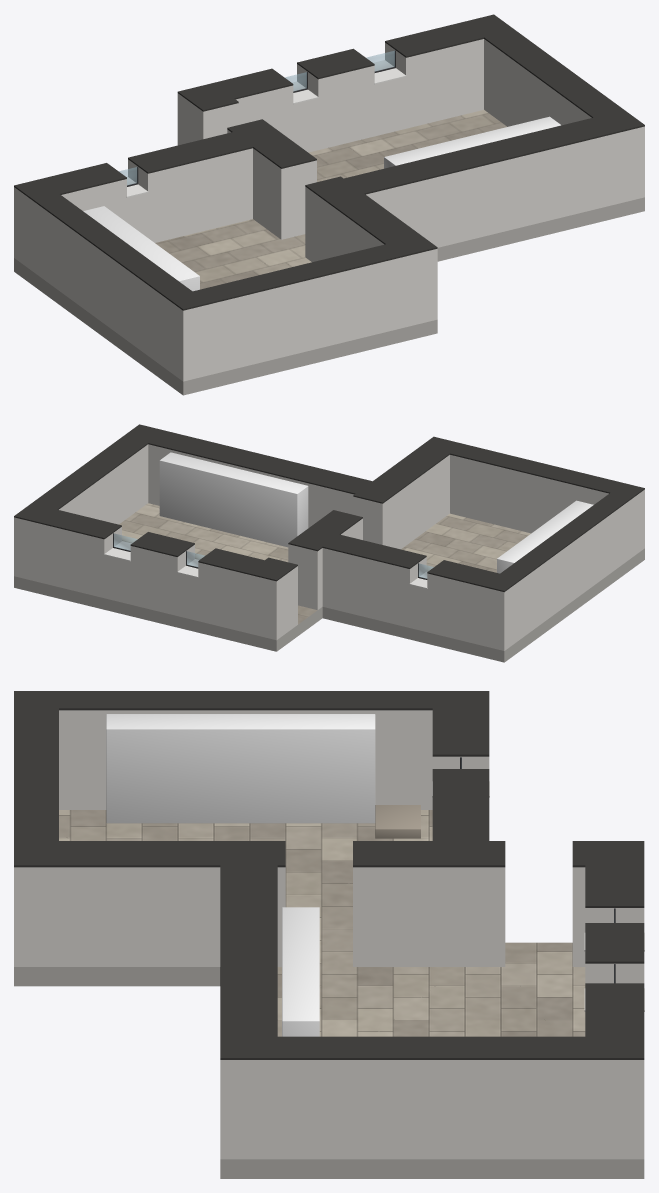
The picture shows the model from 3 angles, top to bottom: view 1: azimuth 30°, elevation 25°; view 2: azimuth 150°, elevation 25°; view 3: azimuth 270°, elevation 25°; orthographic projection. The views are drawn at different scales.
Visible parts, largest first — view 1: walls, caps, floor, arr_Cube.013, arr_Cube.014, sill.002, sill.001, sill; view 2: walls, caps, floor, arr_Cube.014, arr_Cube.013, sill.002, sill.001, sill; view 3: walls, caps, floor, arr_Cube.013, arr_Cube.014, Cube.012.
Boxes of the visible parts, box(x1,y1,x2,y2) form: walls: box(14, 39, 644, 381); caps: box(14, 14, 644, 310); floor: box(14, 110, 644, 395); arr_Cube.013: box(83, 206, 199, 291); arr_Cube.014: box(384, 116, 560, 168); sill.002: box(374, 77, 405, 136); sill.001: box(293, 98, 318, 152); sill: box(127, 193, 147, 237); walls: box(14, 444, 644, 650); caps: box(14, 424, 644, 592); floor: box(14, 503, 644, 662); arr_Cube.014: box(159, 452, 308, 547); arr_Cube.013: box(497, 500, 593, 573); sill.002: box(104, 555, 130, 604); sill.001: box(177, 573, 198, 620); sill: box(410, 585, 427, 631); walls: box(14, 710, 644, 1159); caps: box(14, 691, 644, 1059); floor: box(14, 810, 644, 1178); arr_Cube.013: box(106, 714, 375, 823); arr_Cube.014: box(282, 907, 319, 1036); Cube.012: box(375, 805, 420, 838).
Size of the model in its own units: 9.68 by 1.49 by 7.04.
Materials: 9 (1 with a texture image).
